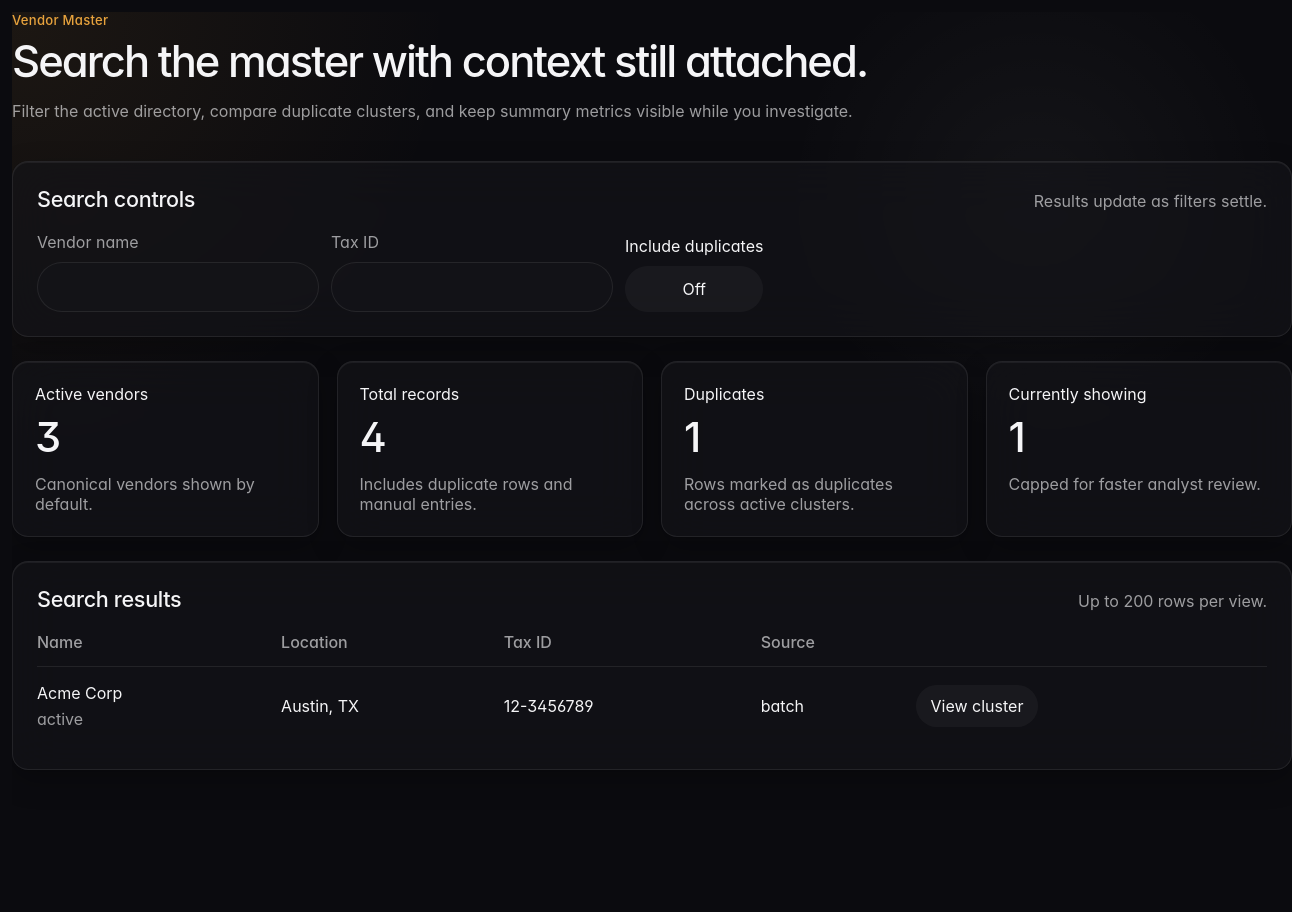
Test: frontend pages › loads vendor results and opens a duplicate cluster
Expected: the text "Acme Corp" is shown, [37,683,122,703]
Click the button "View cluster" at (977, 706), box [916,685,1038,727]
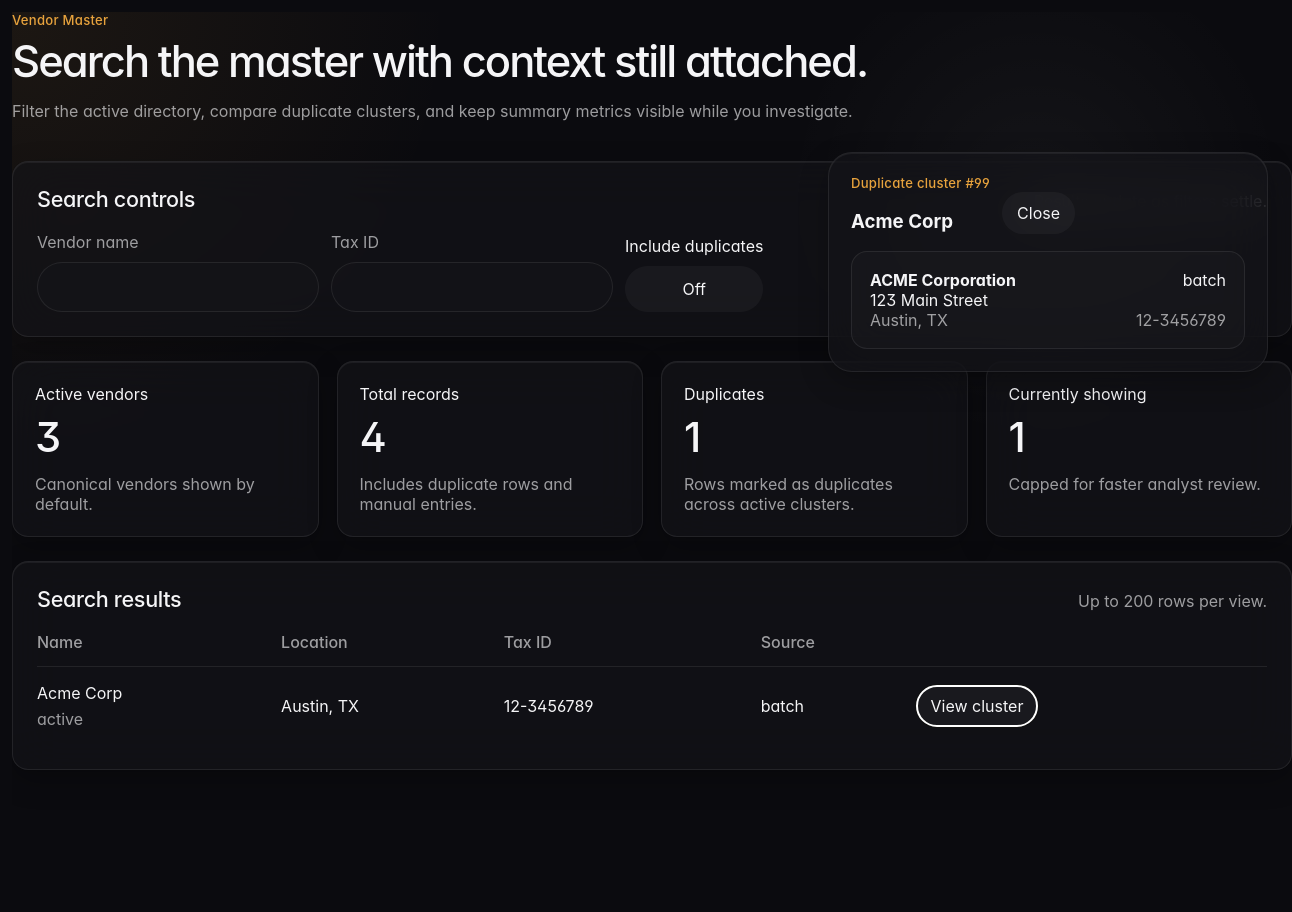
Expected: the text "Duplicate cluster #99" is shown, [851,175,990,191]
